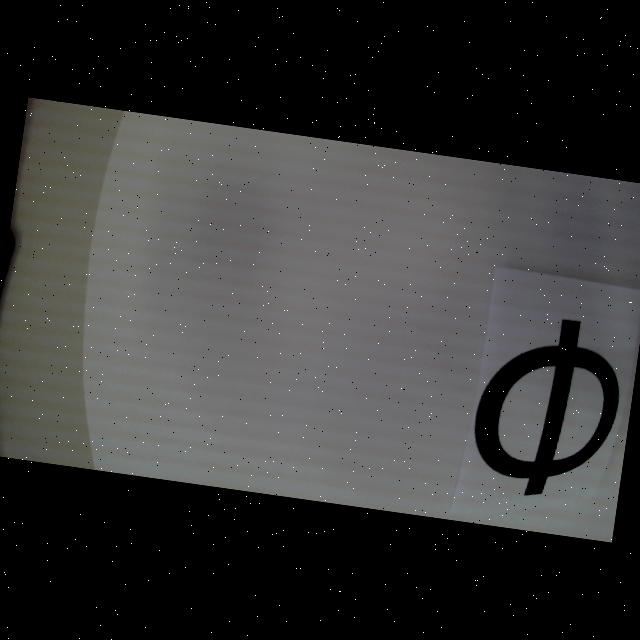PHI: (465, 308, 629, 507)
